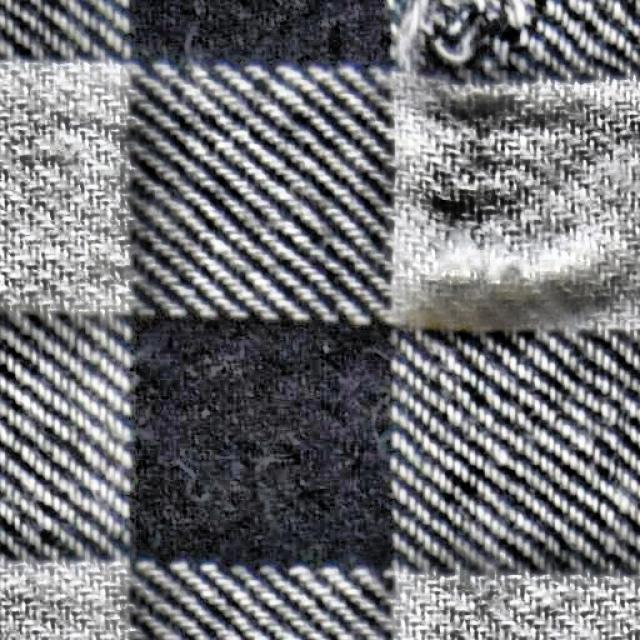Stitch: (399, 2, 541, 62)
